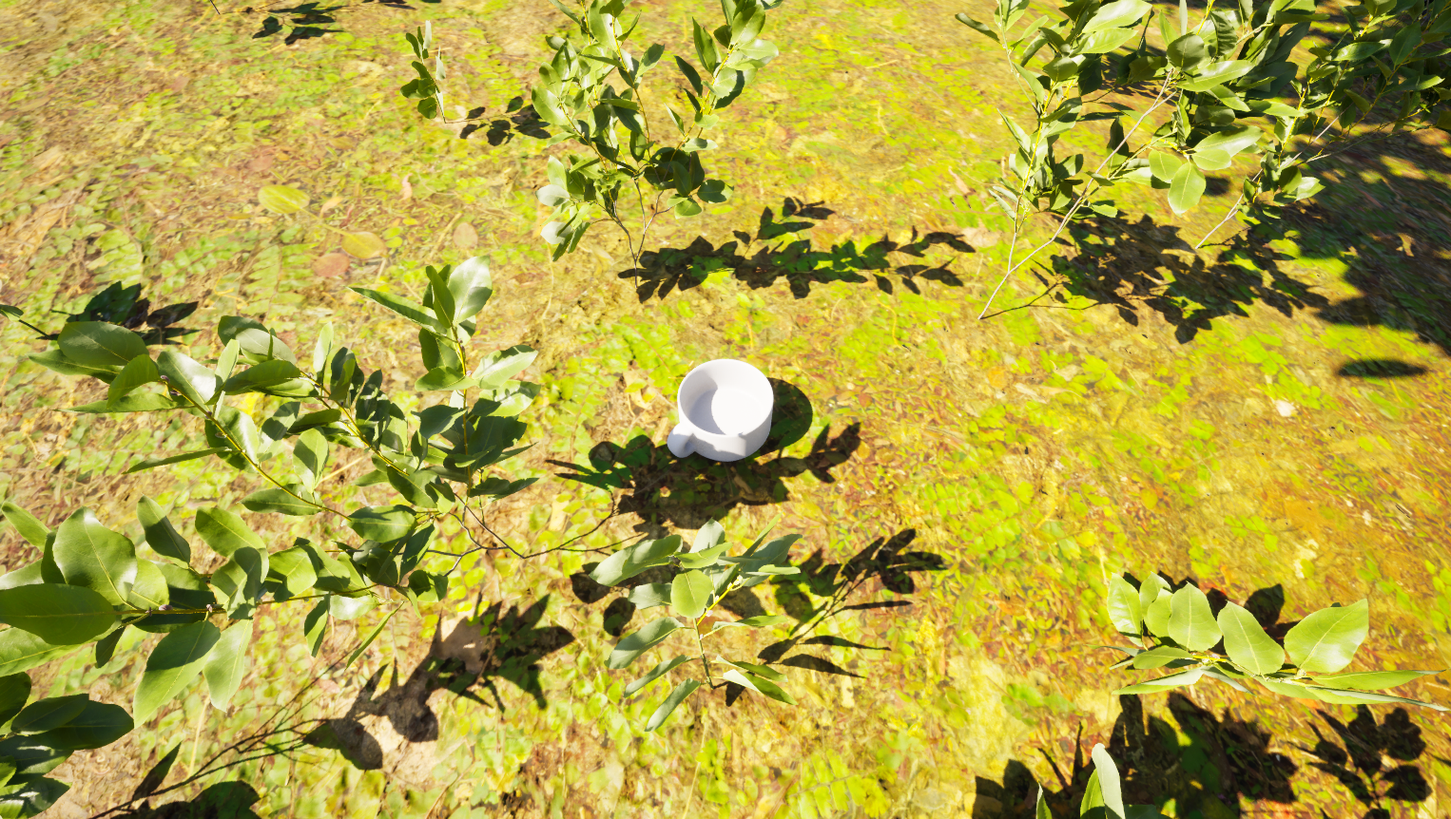Teacup: (659, 354, 782, 469)
